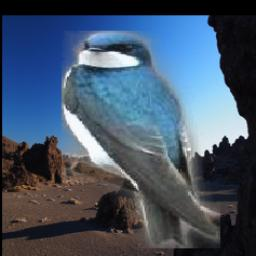Swallow: (60, 32, 219, 249)
